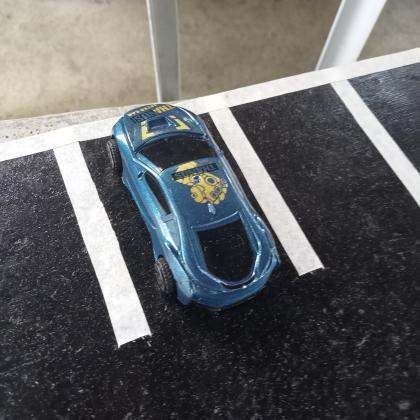Car: (111, 104, 284, 312)
